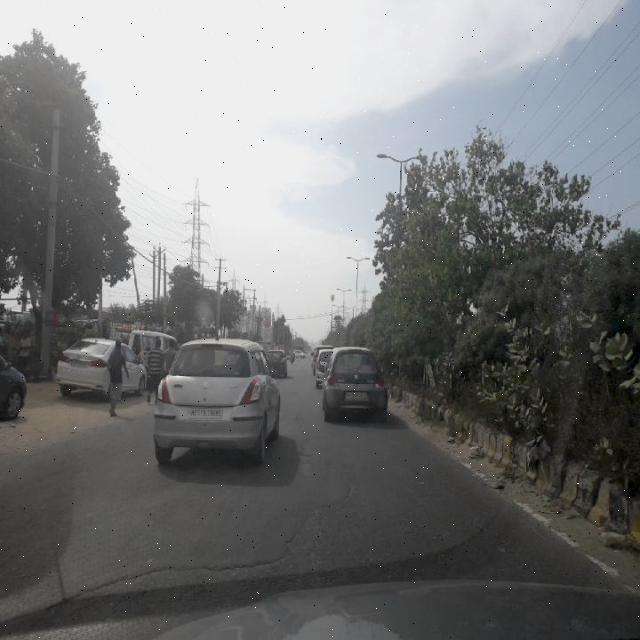D20: (0, 470, 607, 590)
D44: (499, 491, 639, 621)
